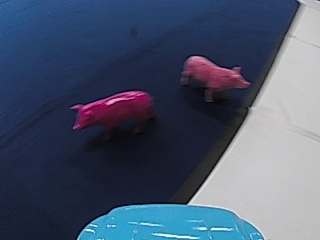pig: (66, 85, 156, 135), (181, 52, 250, 102)
